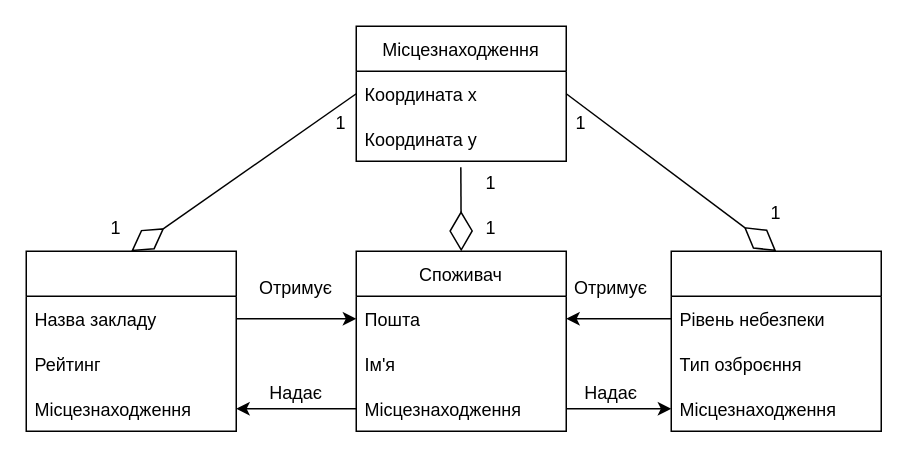
Image size: 908x458. Some labels were removed from this diagram. Each missing label, with the box of its shape:
Google maps api: (25, 250, 236, 431)
ТривогаAPI: (670, 250, 881, 431)
